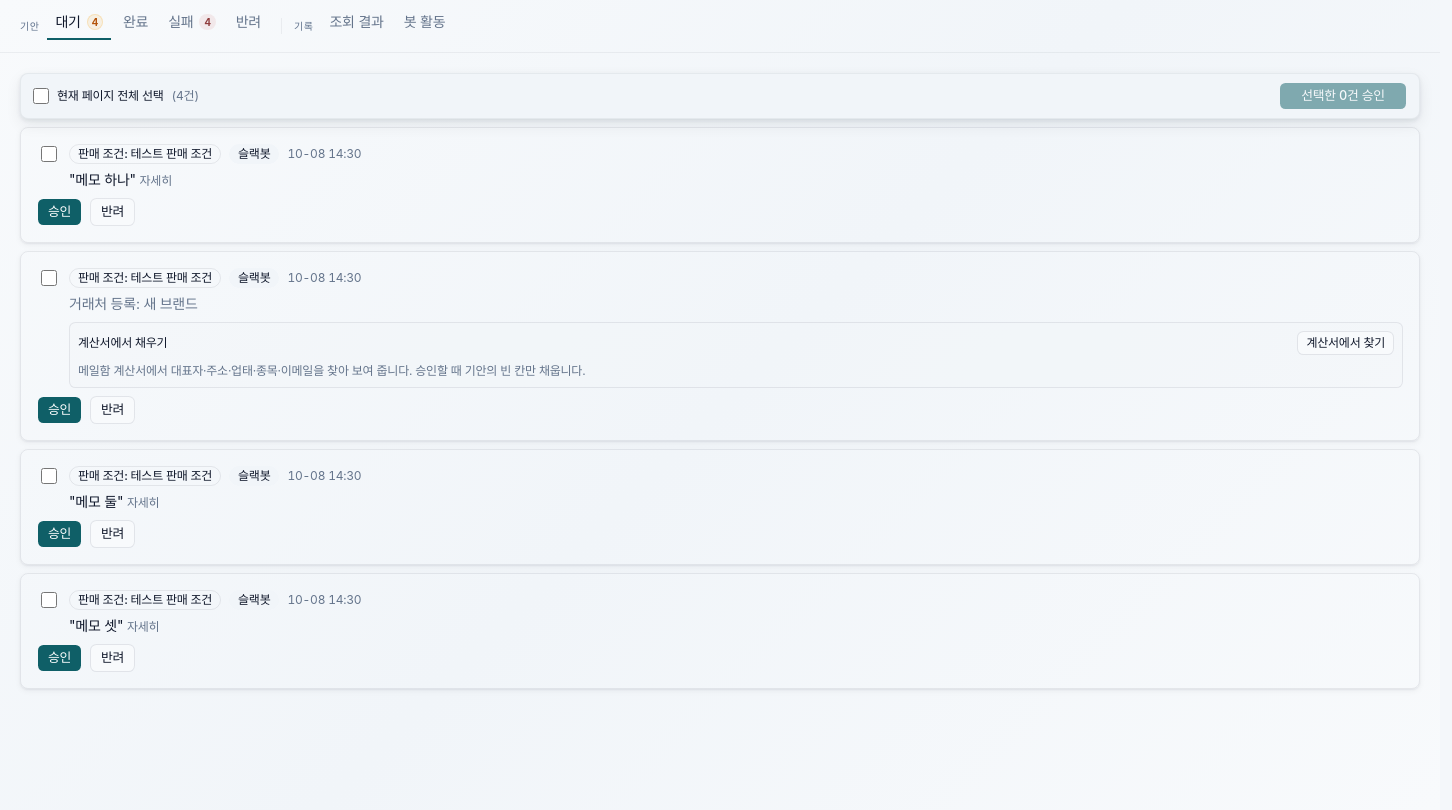
결재함 대기 탭 — 일괄 승인 › ② 0건이면 승인 버튼이 꺼져 있고, 일부만 고르면 전체 선택이 반쯤 찬 상태가 된다
Check: the button "선택한 0건 승인" is disabled, box [1279, 82, 1407, 110]
Click the checkbox named "메모 2 선택" at (49,476), box [41, 468, 57, 484]
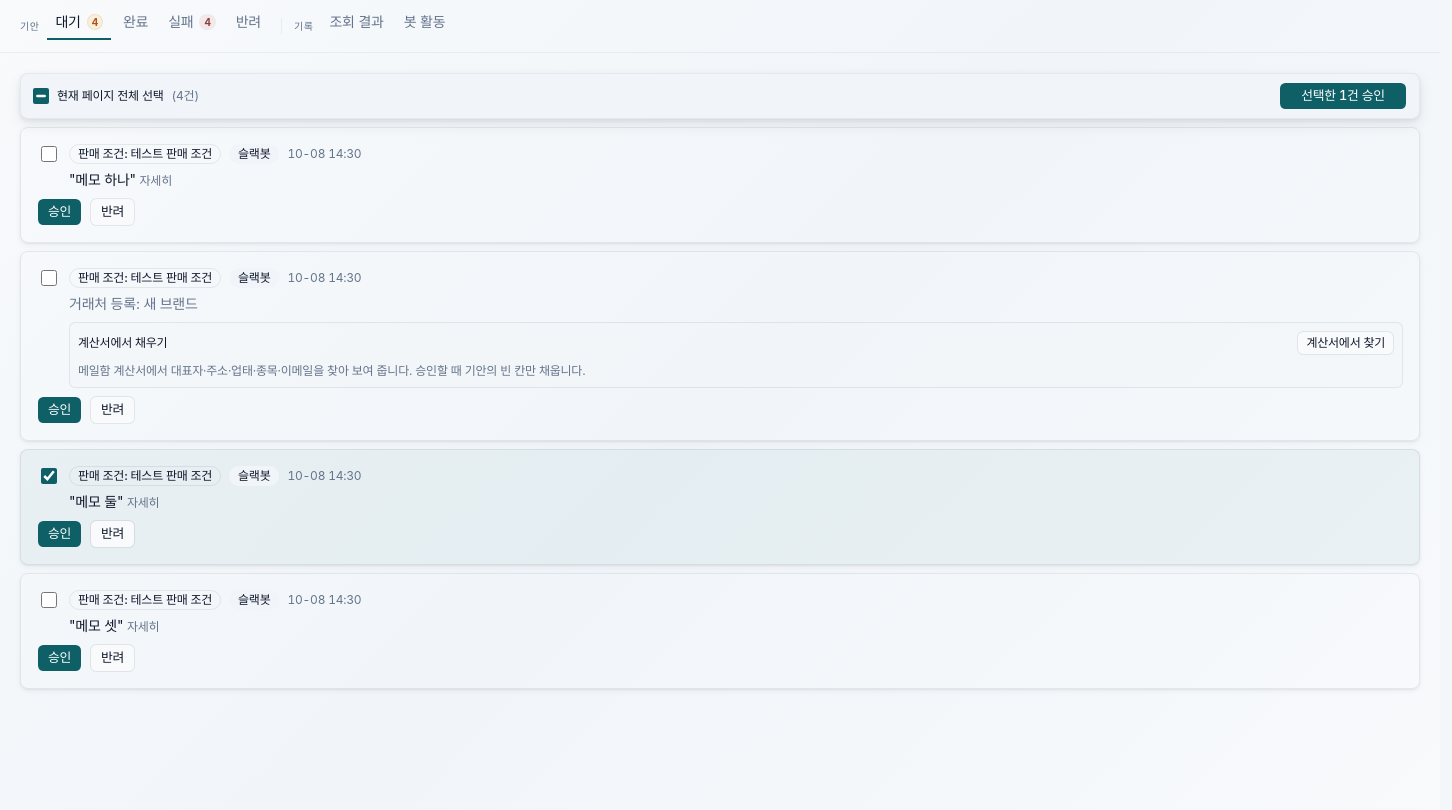
Check: the checkbox labelled "현재 페이지 전체 선택 (4건)" is not checked, box [33, 88, 49, 104]
Check: the button "선택한 1건 승인" is enabled, box [1279, 82, 1407, 110]
